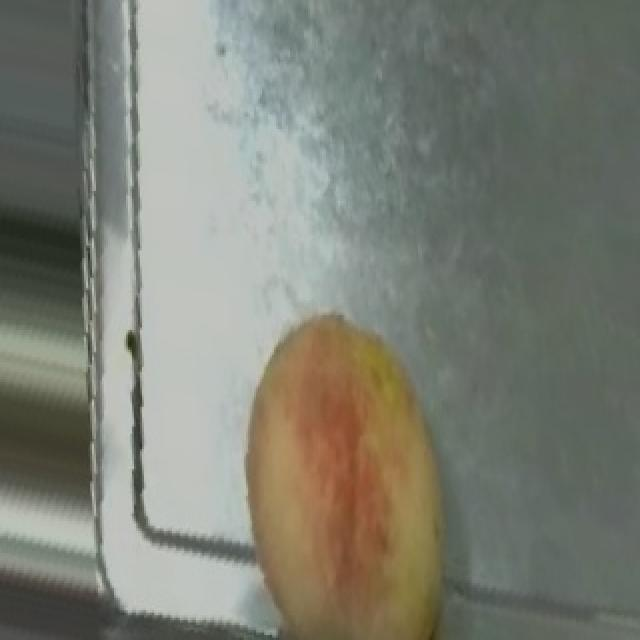Fruit: (212, 308, 480, 638)
